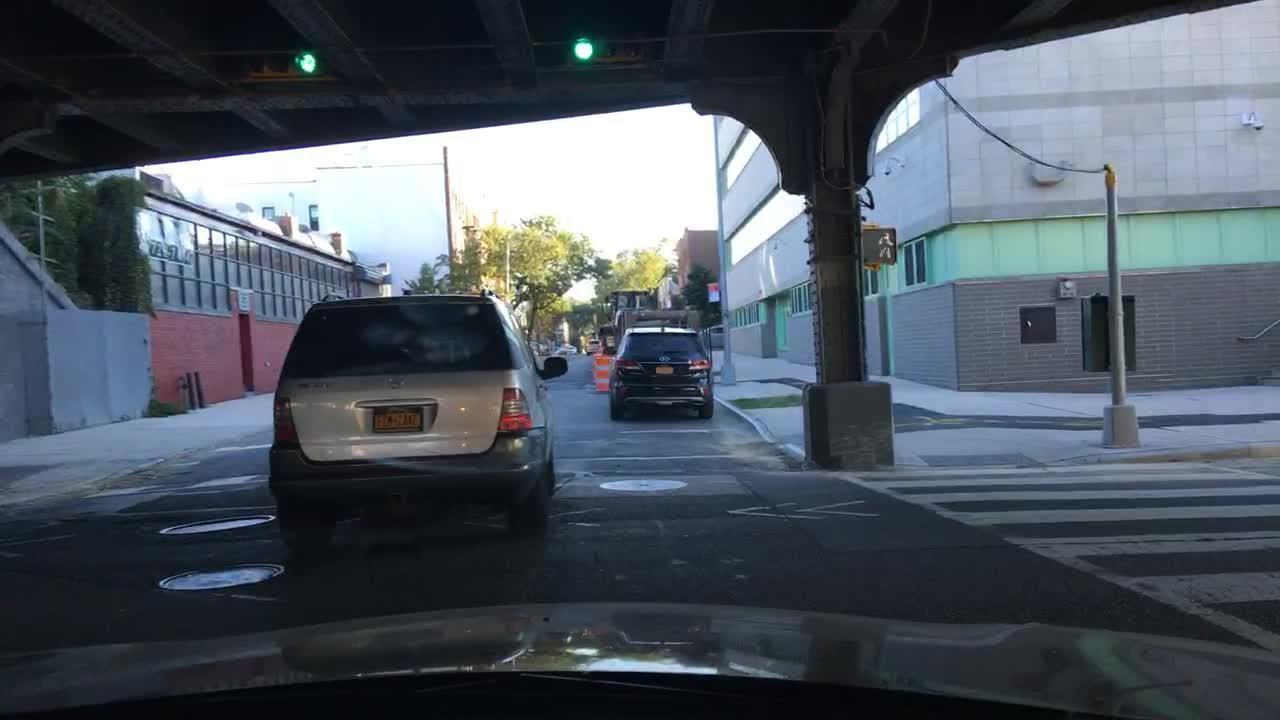Hyundai: (658, 353, 673, 365)
